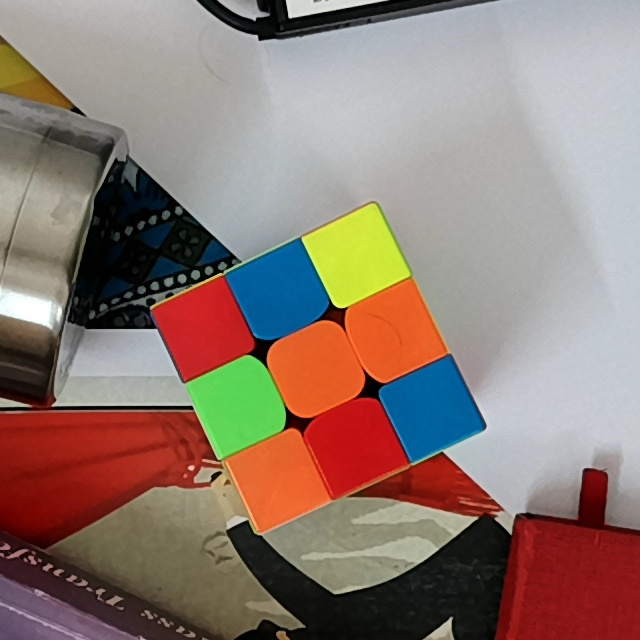tile: (284, 337, 348, 398), (248, 263, 311, 320), (212, 372, 269, 434), (366, 300, 423, 360), (324, 414, 384, 470), (404, 378, 461, 436), (174, 300, 231, 356), (251, 450, 306, 508), (325, 230, 383, 284)
